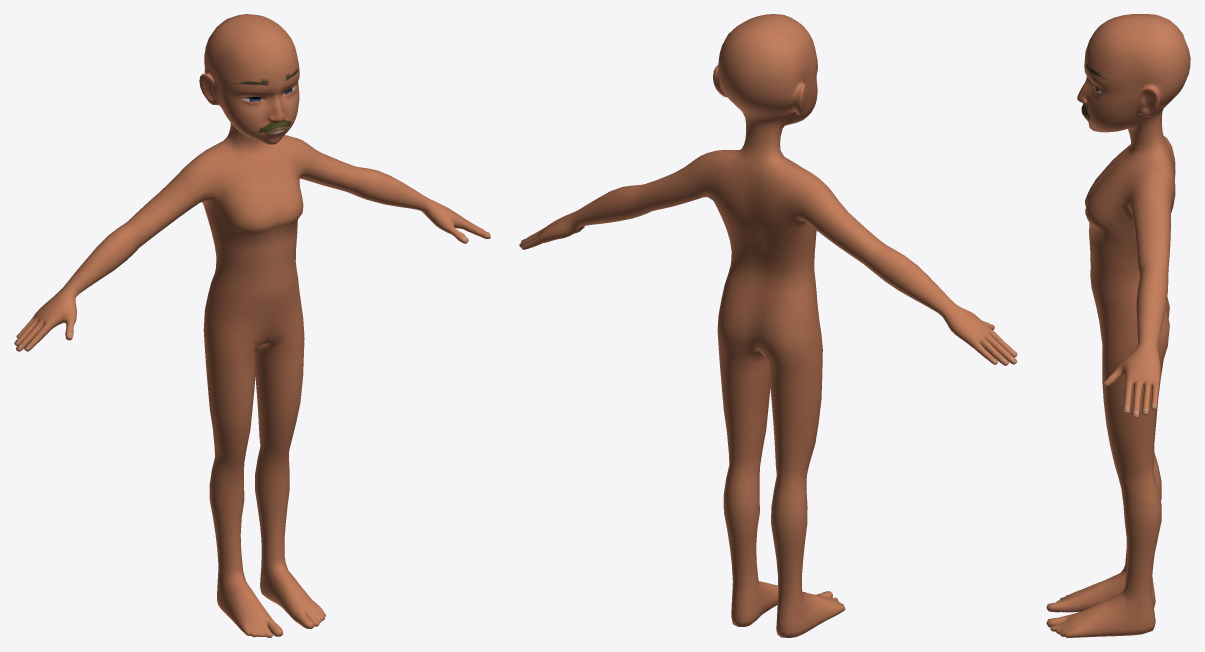
Rendered from frame_0034.glb.
The picture shows the model from 3 angles, left to right: view 1: azimuth 30°, elevation 25°; view 2: azimuth 150°, elevation 25°; view 3: azimuth 270°, elevation 25°; orthographic projection. The views are drawn at different scales.
Visible parts, largest first — view 1: frame_0034_head_geo; view 2: frame_0034_head_geo; view 3: frame_0034_head_geo.
Part boxes in pixels (<box>): frame_0034_head_geo: <box>14,14,490,637</box>; frame_0034_head_geo: <box>519,14,1017,637</box>; frame_0034_head_geo: <box>1046,14,1190,637</box>.
Size of the model in its own units: 1.28 by 1.5 by 0.3253.
3 materials, 3 textured.
